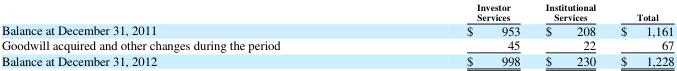table: (0, 1, 673, 67)
table column: (0, 1, 372, 67), (372, 1, 532, 67), (532, 1, 607, 67), (607, 1, 673, 67)
table column header: (0, 1, 673, 22)
table row: (0, 1, 673, 22), (0, 22, 673, 37), (0, 37, 673, 52), (0, 52, 673, 67)
